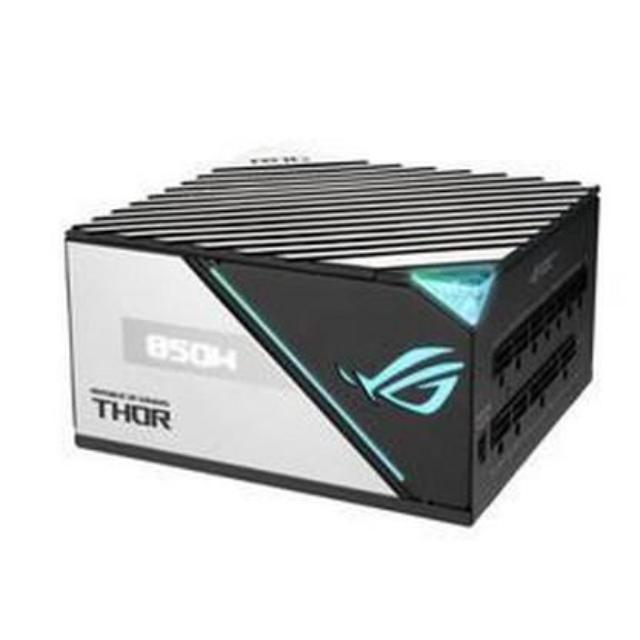PSU: (54, 143, 608, 534)
